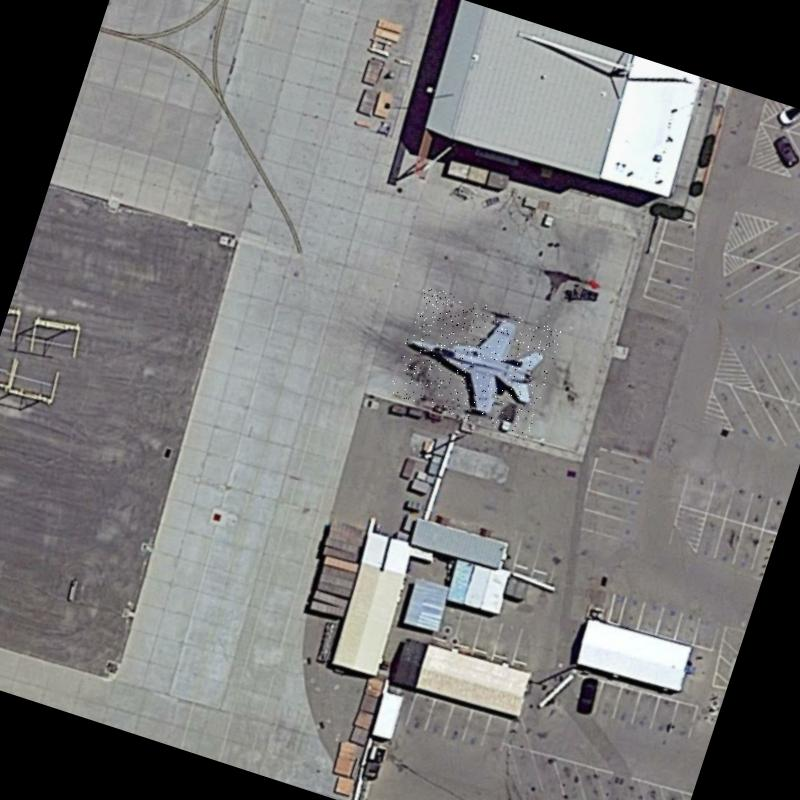A16: (388, 285, 562, 439)
